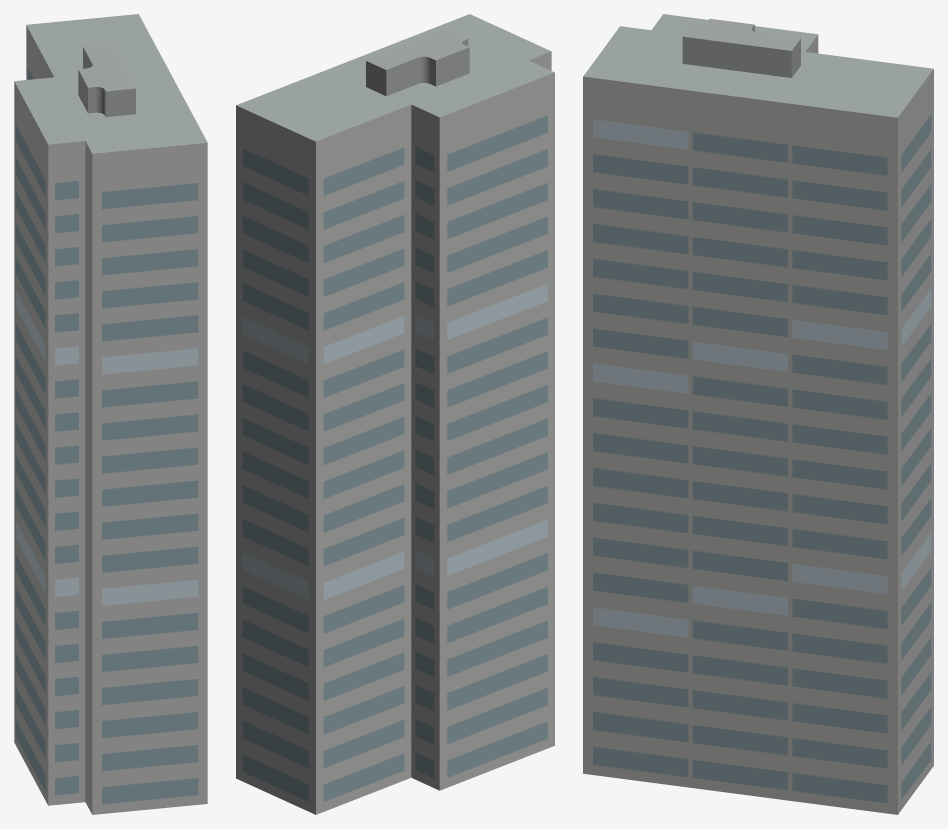
Rendered from fallback-dh-honor-hills-310.glb.
The picture shows the model from 3 angles, left to right: view 1: azimuth 30°, elevation 25°; view 2: azimuth 150°, elevation 25°; view 3: azimuth 270°, elevation 25°; orthographic projection. The views are drawn at different scales.
Parts seen in each view (by area): view 1: fallback-dh-honor-hills-310; view 2: fallback-dh-honor-hills-310; view 3: fallback-dh-honor-hills-310.
Part boxes in pixels (box(x1,y1,x2,y2)): fallback-dh-honor-hills-310: box(14, 14, 207, 814); fallback-dh-honor-hills-310: box(236, 14, 554, 814); fallback-dh-honor-hills-310: box(583, 14, 933, 814).
Bounding box in the file's own units: 19.67 × 64 × 28.09.
